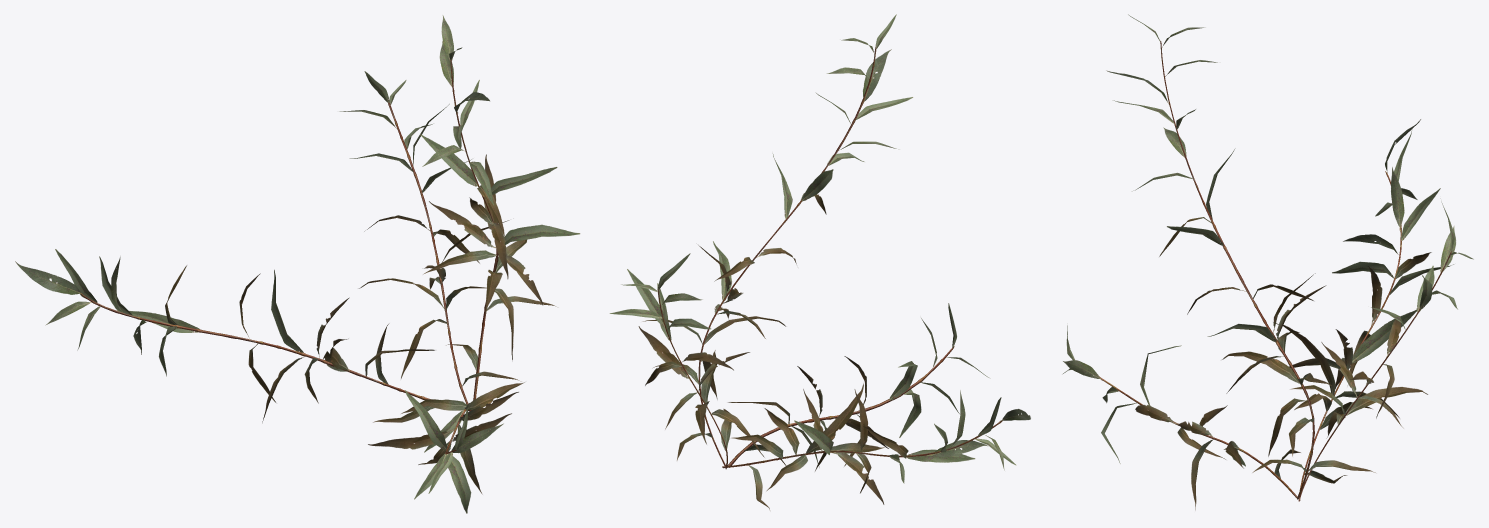
File: shrub_02_d_LOD1.glb
The picture shows the model from 3 angles, left to right: view 1: azimuth 30°, elevation 25°; view 2: azimuth 150°, elevation 25°; view 3: azimuth 270°, elevation 25°; orthographic projection. The views are drawn at different scales.
Visible parts, largest first — view 1: shrub_02_d_LOD1.001; view 2: shrub_02_d_LOD1.001; view 3: shrub_02_d_LOD1.001.
Part boxes in pixels (x1=…): shrub_02_d_LOD1.001: x1=15, y1=15, x2=580, y2=513; shrub_02_d_LOD1.001: x1=609, y1=14, x2=1030, y2=509; shrub_02_d_LOD1.001: x1=1062, y1=14, x2=1473, y2=510.
Size of the model in its own units: 1.04 by 1.01 by 0.8005.
Materials: 1 (1 with a texture image).
